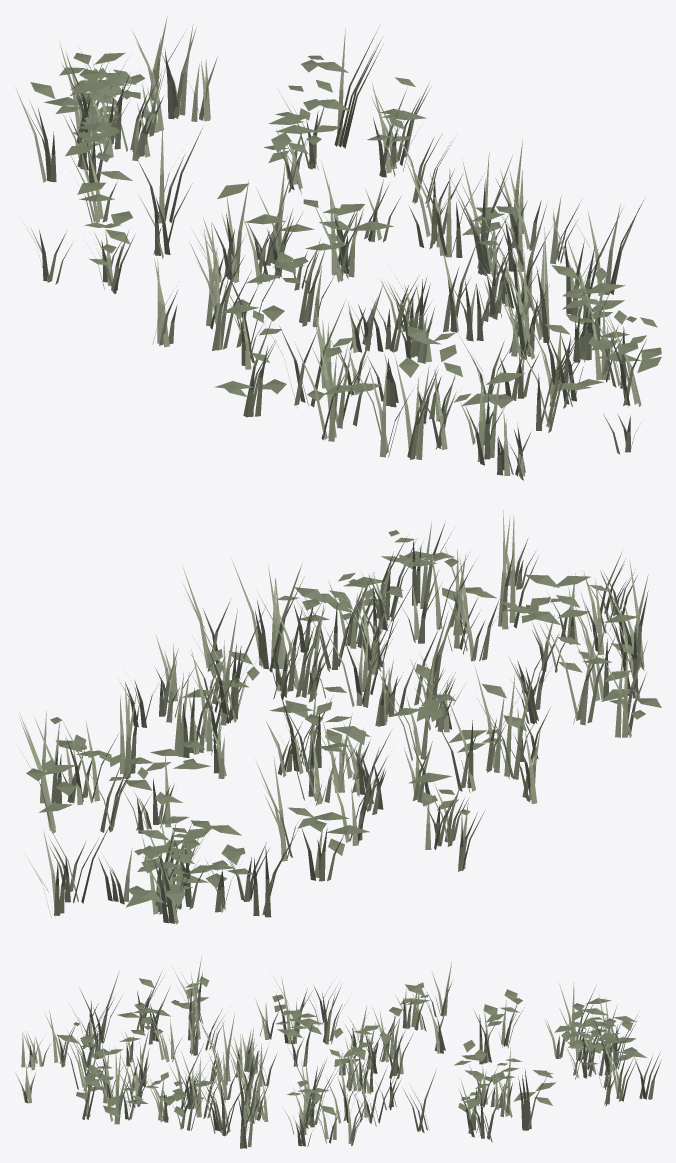
File: AE_Encroachment_20.fbx
The picture shows the model from 3 angles, top to bottom: view 1: azimuth 30°, elevation 25°; view 2: azimuth 150°, elevation 25°; view 3: azimuth 270°, elevation 25°; orthographic projection. The views are drawn at different scales.
Parts seen in each view (by area): view 1: AE_Encroachment_20_LOD0; view 2: AE_Encroachment_20_LOD0; view 3: AE_Encroachment_20_LOD0.
Boxes of the visible parts, <box> form: AE_Encroachment_20_LOD0: <box>15,17,661,480</box>; AE_Encroachment_20_LOD0: <box>19,510,661,924</box>; AE_Encroachment_20_LOD0: <box>15,956,661,1148</box>.
Size of what is drawn, in the model's own units: 436 by 105 by 793.
